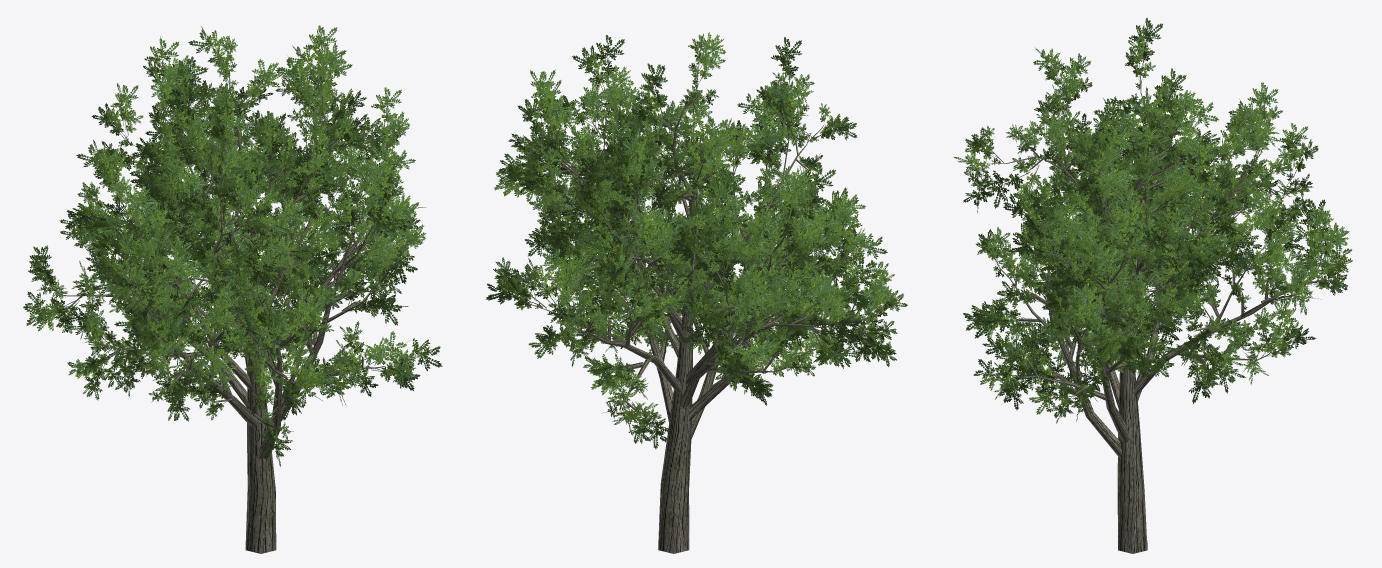
Rendered from tree_1LOD1.gltf.
The picture shows the model from 3 angles, left to right: view 1: azimuth 30°, elevation 25°; view 2: azimuth 150°, elevation 25°; view 3: azimuth 270°, elevation 25°; orthographic projection. The views are drawn at different scales.
Parts seen in each view (by area): view 1: Leaves_LOD1, Branches_LOD1; view 2: Leaves_LOD1, Branches_LOD1; view 3: Leaves_LOD1, Branches_LOD1.
Boxes of the visible parts, <box> form: Leaves_LOD1: <box>23,25,442,466</box>; Branches_LOD1: <box>54,71,396,553</box>; Leaves_LOD1: <box>485,32,907,449</box>; Branches_LOD1: <box>520,69,881,553</box>; Leaves_LOD1: <box>953,18,1352,423</box>; Branches_LOD1: <box>982,73,1326,553</box>.
Size of the model in its own units: 73.87 by 102 by 75.75.
